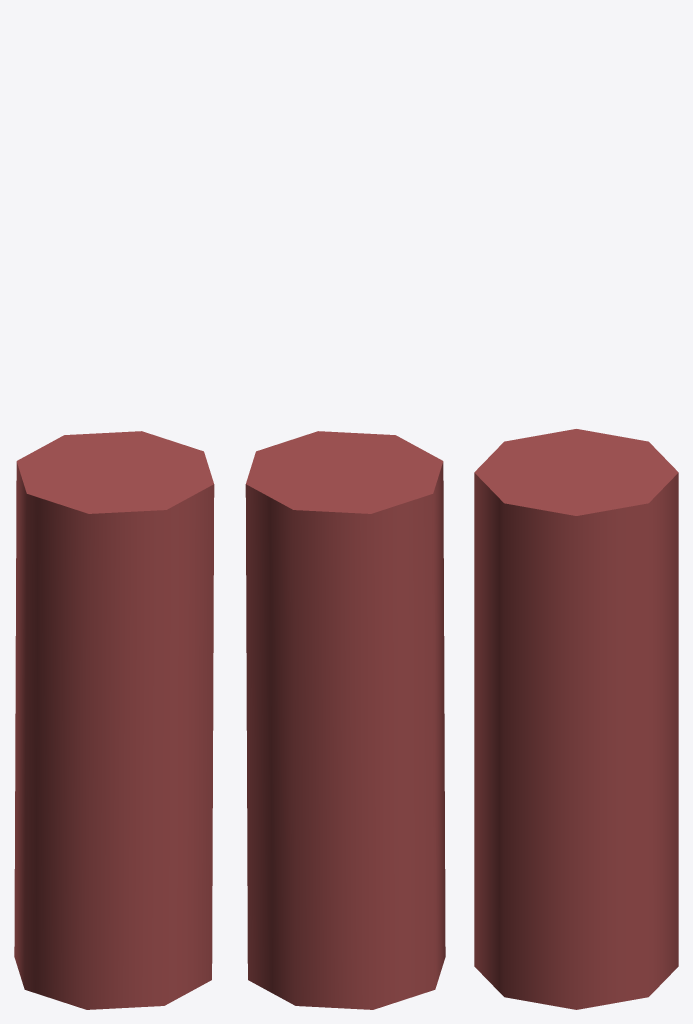
Rendered from Char_CR_Potion.FBX.
3 views of the same model, side by side, from view 1: azimuth 30°, elevation 25°; view 2: azimuth 150°, elevation 25°; view 3: azimuth 270°, elevation 25° (orthographic).
Visible parts, largest first — view 1: Box003; view 2: Box003; view 3: Box003.
Part boxes in pixels (box(x1,y1,x2,y2)): Box003: box(14, 431, 214, 1009); Box003: box(245, 431, 445, 1009); Box003: box(474, 429, 678, 1009).
Bounding box in the file's own units: 2.43 × 11.87 × 2.39.
